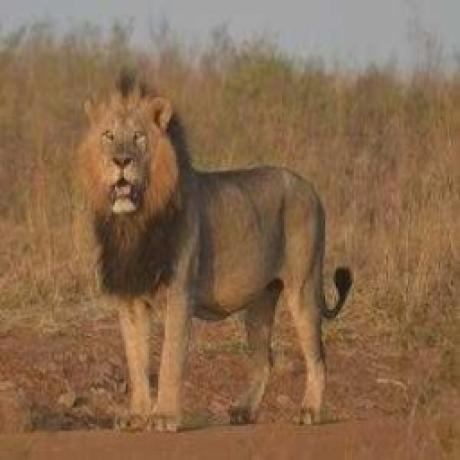Lion: (77, 72, 357, 435)
